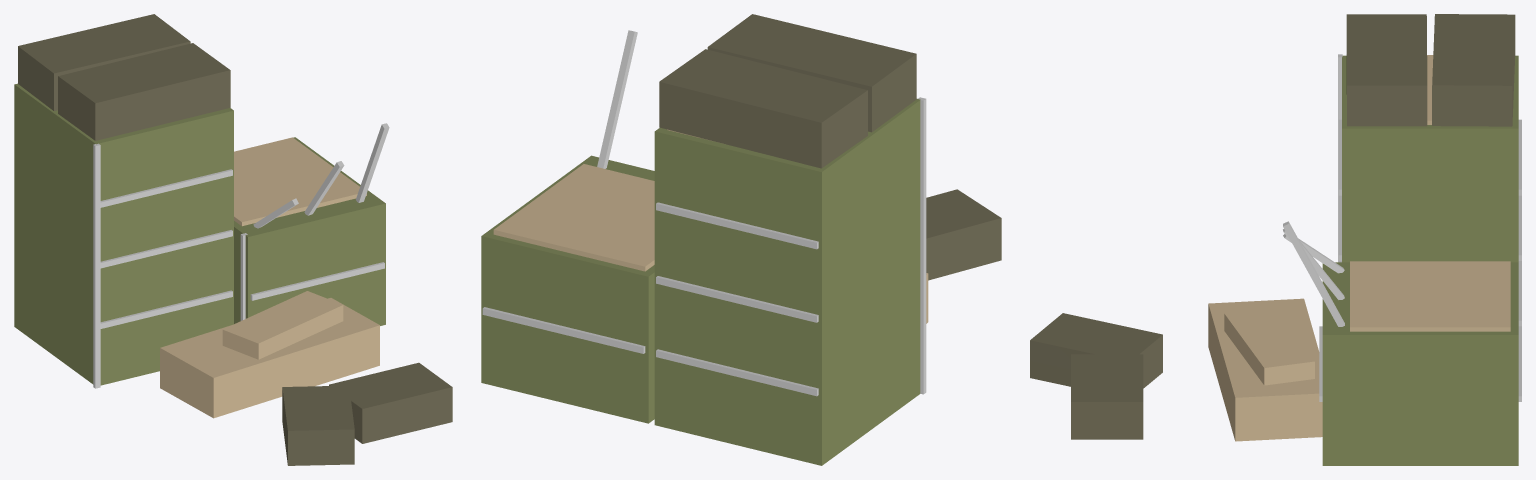
Rendered from SM_HescoCorto2_v3_RemateSacos_e1_Danado_LOD0.fbx.
3 renders of one model, left to right at view 1: azimuth 30°, elevation 25°; view 2: azimuth 150°, elevation 25°; view 3: azimuth 270°, elevation 25°, orthographic. The views are drawn at different scales.
Visible parts, largest first — view 1: SM_hesco_piezas_v73_LOD0; view 2: SM_hesco_piezas_v73_LOD0; view 3: SM_hesco_piezas_v73_LOD0.
Boxes of the visible parts, <box> form: SM_hesco_piezas_v73_LOD0: <box>14,14,452,465</box>; SM_hesco_piezas_v73_LOD0: <box>481,14,1001,465</box>; SM_hesco_piezas_v73_LOD0: <box>1030,14,1521,465</box>.
Bounding box in the file's own units: 2.2 × 2.09 × 3.06.
